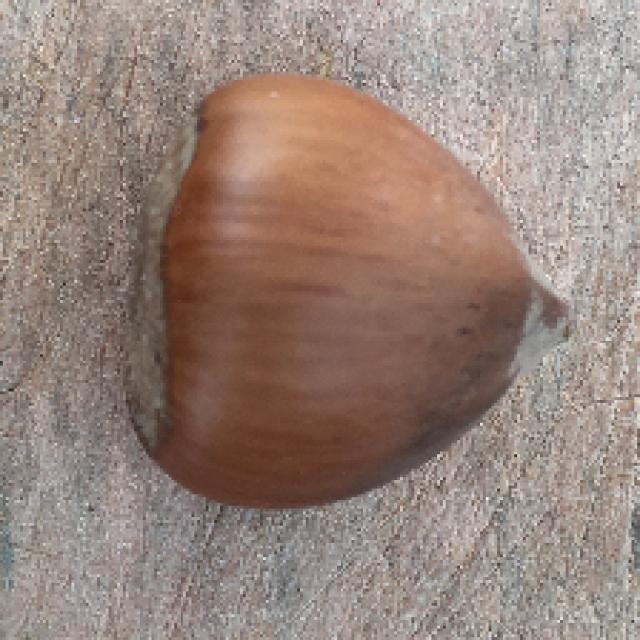qualityHazelnut: (114, 73, 576, 512)
